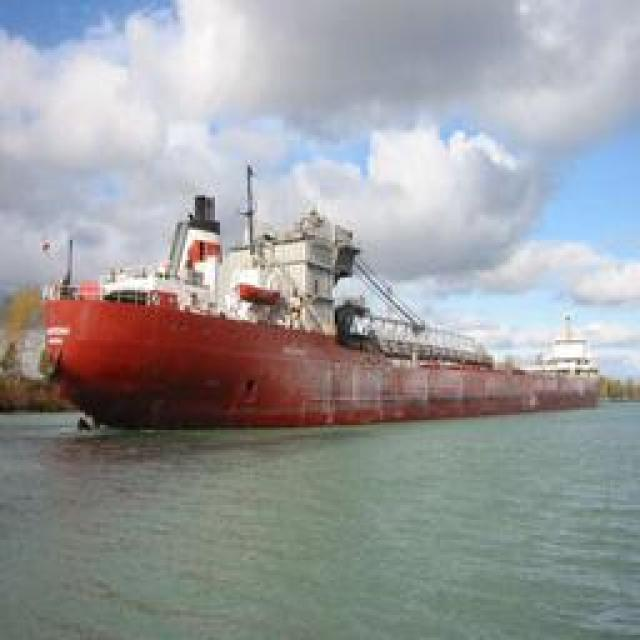ship2: (41, 148, 605, 432)
